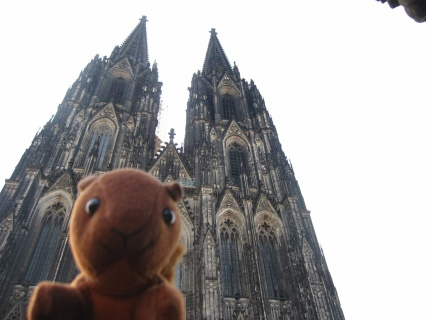Squirrel: (25, 167, 187, 318)
